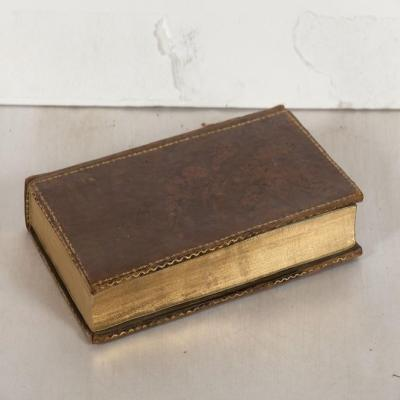rare_books: (24, 105, 364, 346)
